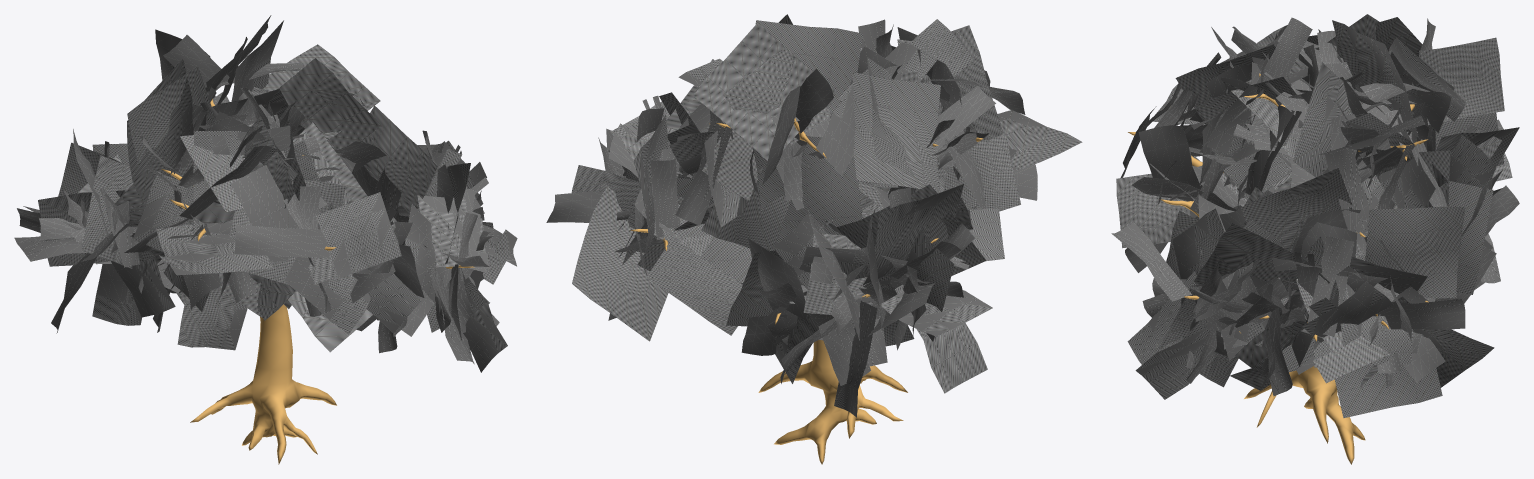
File: ArbreV.2.glb
3 views of the same model, side by side, from view 1: azimuth 30°, elevation 25°; view 2: azimuth 150°, elevation 25°; view 3: azimuth 270°, elevation 25° (orthographic). The views are drawn at different scales.
Visible parts, largest first — view 1: branch1-1.001; view 2: branch1-1.001; view 3: branch1-1.001.
Part boxes in pixels (x1,y1,x2,y2): branch1-1.001: [14, 15, 517, 464]; branch1-1.001: [546, 14, 1082, 464]; branch1-1.001: [1111, 14, 1519, 464].
Size of the model in its own units: 35.1 by 32.4 by 28.19.
Materials: 2 (1 with a texture image).
